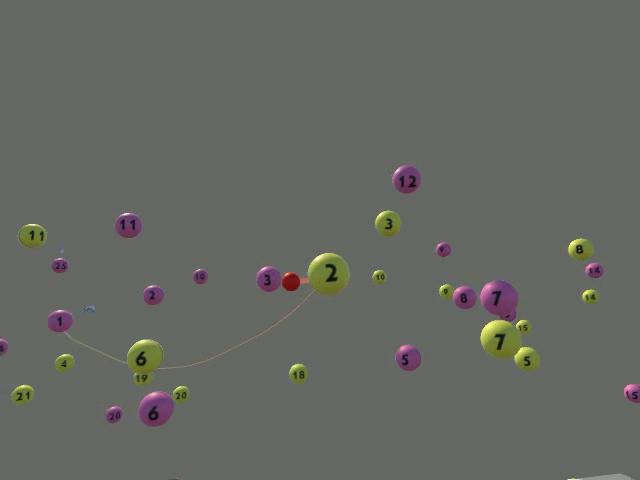ball_01_pink: (47, 309, 73, 333)
ball_02_pink: (142, 285, 163, 305)
ball_02_yellow: (306, 252, 350, 294)
ball_03_pink: (255, 265, 281, 292)
ball_03_yellow: (374, 209, 401, 236)
ball_04_yellow: (54, 353, 74, 372)
ball_05_pink: (394, 344, 420, 371)
ball_05_yellow: (514, 346, 540, 370)
ball_06_pink: (138, 391, 173, 427)
ball_06_yellow: (126, 338, 163, 375)
ball_07_pink: (480, 279, 517, 316)
ball_07_yellow: (480, 319, 520, 358)
ball_08_pink: (452, 285, 476, 309)
ball_08_yellow: (568, 238, 592, 260)
ball_09_pink: (436, 242, 451, 257)
ball_09_yellow: (438, 283, 453, 298)
ball_10_pink: (192, 268, 207, 284)
ball_10_yellow: (372, 269, 386, 283)
ball_11_pink: (114, 212, 142, 238)
ball_11_yellow: (18, 223, 46, 248)
ball_12_pink: (392, 164, 420, 193)
ball_14_pink: (585, 262, 603, 278)
ball_14_yellow: (581, 288, 598, 304)
ball_15_pink: (623, 383, 639, 403)
ball_15_yellow: (516, 318, 531, 332)
ball_18_yellow: (289, 363, 308, 384)
ball_19_yellow: (133, 371, 151, 386)
ball_20_pink: (105, 405, 122, 423)
ball_20_yellow: (172, 385, 189, 403)
ball_21_yellow: (10, 385, 35, 406)
ball_25_pink: (51, 258, 69, 273)
ball_unknown: (500, 313, 517, 322), (0, 339, 8, 356), (566, 477, 577, 479)
user_cursor: (281, 271, 300, 291)
